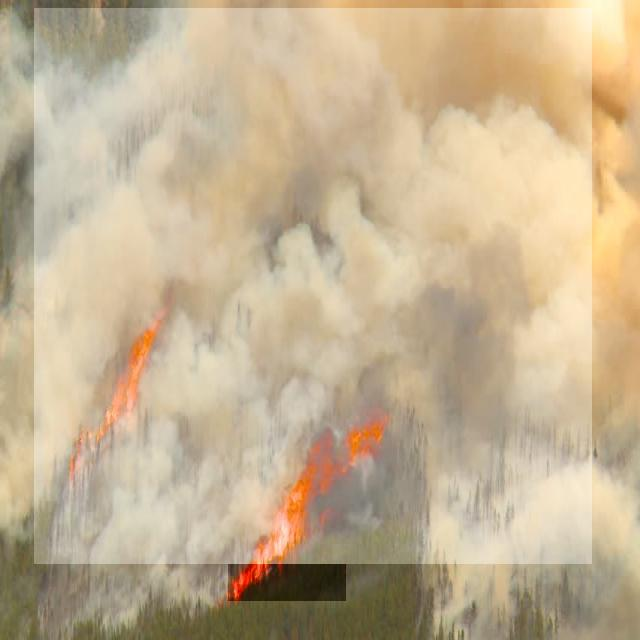Fire: (228, 441, 346, 601), (80, 314, 172, 458)
Smoke: (34, 8, 592, 564)
